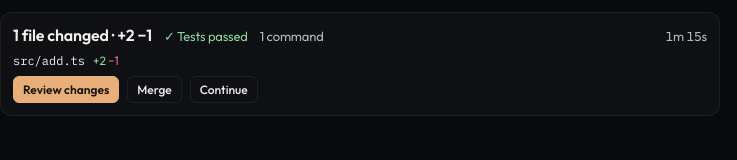
Test: TurnOutcomeCard › offers Merge only when given a merge action, and reports failures
The image size is (737, 160).
Click the button "Merge" at [154, 90], box [127,76,182,103]
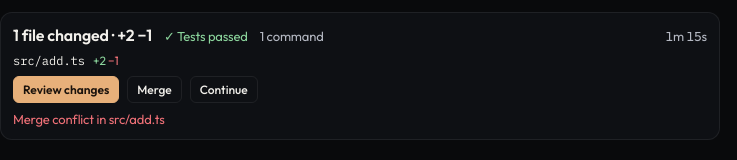
Now the message "Merge conflict in src/add.ts" is shown, box [13,111,164,127]
